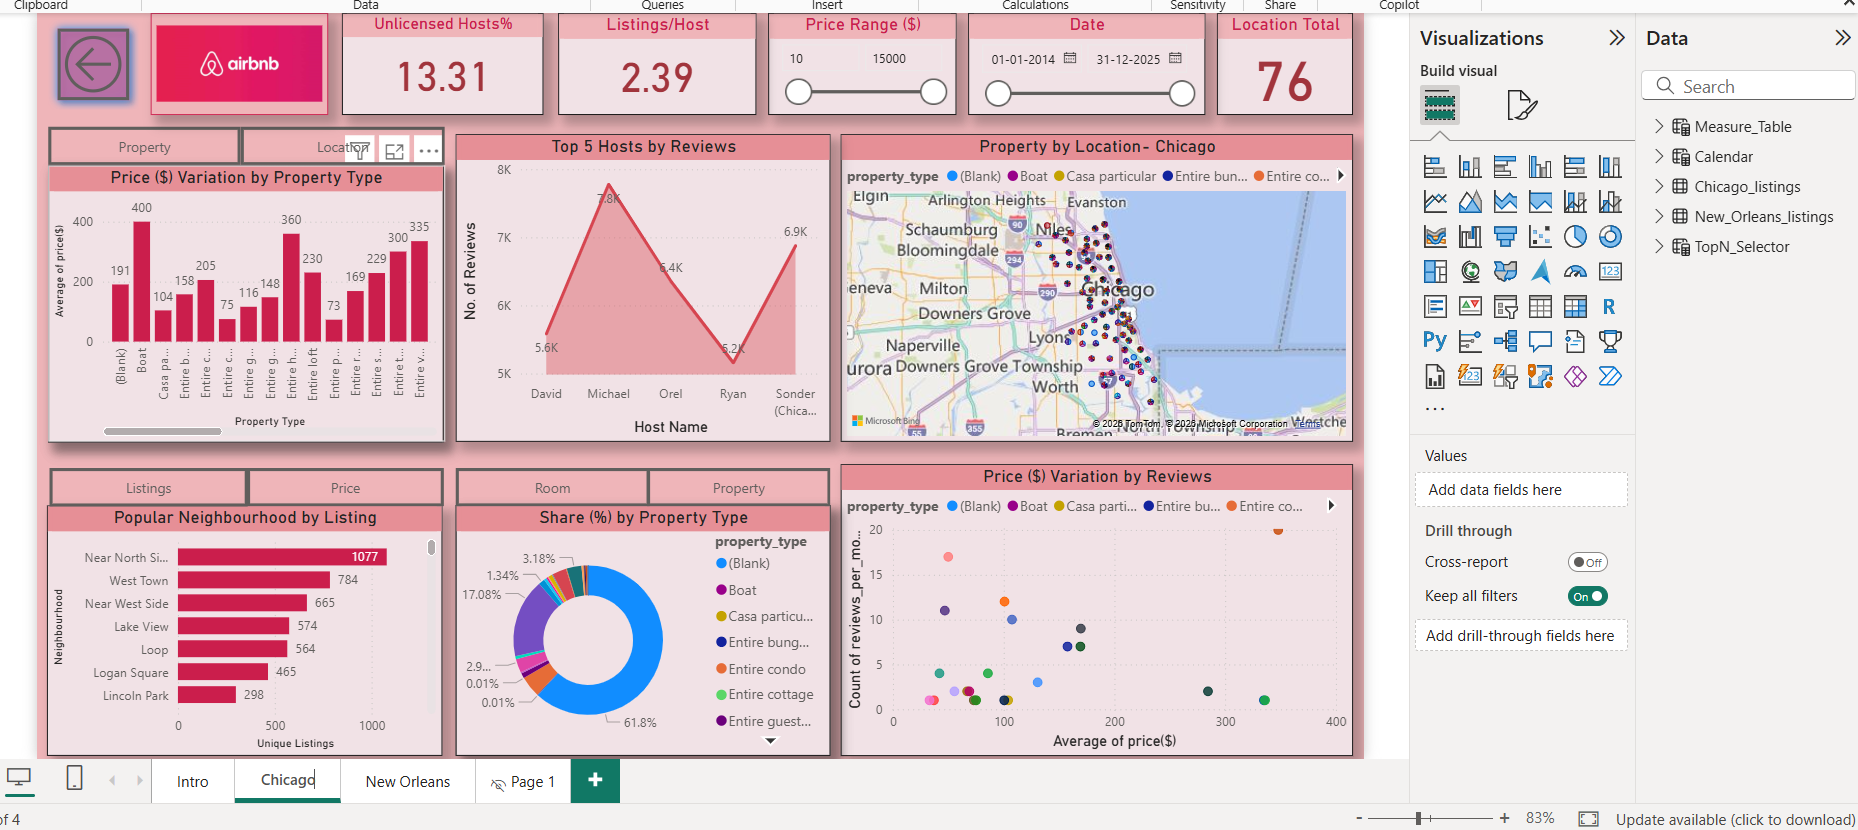

Layout of this report page (visuals, bound fields, positions):
{"tool":"powerbi","page":{"name":"Chicago","canvas":[1280,720],"ordinal":1},"visuals":[{"type":"slicer","title":"Price Range ($)","fields":{"Values":["Chicago_listings.price"]},"box":[705.7,0,181.4,98.6],"z":1000},{"type":"card","title":"Location Total","fields":{"Values":["Count(Chicago_listings.neighbourhood)"]},"box":[1138.6,0,131.4,98.6],"z":2000},{"type":"columnChart","title":"Price ($) Variation by Location","fields":{"Category":["Chicago_listings.neighbourhood"],"Y":["Avg(Chicago_listings.price)"]},"box":[11.4,147.1,380,267.1],"z":3000},{"type":"columnChart","title":"Price ($) Variation by Property Type","fields":{"Category":["Chicago_listings.property_type"],"Y":["Avg(Chicago_listings.price)"]},"box":[11.4,147.1,381.4,267.1],"z":4000},{"type":"scatterChart","title":"Price ($) Variation by Reviews","fields":{"X":["Avg(Chicago_listings.price)"],"Y":["CountNonNull(Chicago_listings.reviews_per_month)"],"Series":["Chicago_listings.property_type"]},"box":[775.7,435.7,494.3,281.4],"z":5000},{"type":"map","title":"Property by Location- Chicago","fields":{"Category":["Chicago_listings.neighbourhood"],"Series":["Chicago_listings.property_type"],"Y":["Avg(Chicago_listings.latitude)"],"X":["Avg(Chicago_listings.longitude)"]},"box":[775.7,117.1,494.3,297.1],"z":6000},{"type":"actionButton","box":[11.4,110,185.7,37.1],"z":7000},{"type":"actionButton","box":[197.1,110,197.1,37.1],"z":8000},{"type":"image","box":[110,0,171.4,98.6],"z":9000},{"type":"card","title":"Unlicensed Hosts%","fields":{"Values":["Measure_Table.Unlicensed Host %"]},"box":[294.3,0,194.3,98.6],"z":10000},{"type":"card","title":"Listings/Host","fields":{"Values":["Measure_Table.Listings/host"]},"box":[502.9,0,191.4,98.6],"z":11000},{"type":"slicer","title":"Date","fields":{"Values":["Calendar.Date"]},"box":[898.6,0,228.6,98.6],"z":12000},{"type":"actionButton","box":[11.4,5.7,87.1,87.1],"z":13000},{"type":"barChart","title":"Popular Neighbourhood by Listing","fields":{"Category":["Chicago_listings.neighbourhood"],"Y":["Chicago_listings.CH_Unique Listings"]},"box":[10,475.7,381.4,241.4],"z":15000},{"type":"actionButton","title":"Listings","box":[12,438.6,191.4,37.2],"z":16000},{"type":"actionButton","box":[202.9,438.6,190,37.1],"z":17000},{"type":"donutChart","title":"Share (%) by Room Type","fields":{"Y":["Calendar.RoomType Share (%)"],"Category":["Chicago_listings.room_type"]},"box":[404.3,475.7,361.4,241.4],"z":18000},{"type":"donutChart","title":"Share (%) by Property Type","fields":{"Category":["Chicago_listings.property_type"],"Y":["Measure_Table.PropertyType Share (%)"]},"box":[404.3,475.7,361.4,241.4],"z":19000},{"type":"actionButton","box":[404.3,438.6,187.1,37.1],"z":20000},{"type":"actionButton","box":[588.6,438.6,177.1,37.1],"z":21000},{"type":"areaChart","title":"Top 5 Hosts by Reviews","fields":{"Category":["Chicago_listings.host_name"],"Y":["TopN_Selector.Dynamic Top N Hosts by Reviews CH"]},"box":[404.3,117.1,361.4,297.1],"z":22000}]}

Visuals, with their boxes on the page's 1280x720 design canvas (x1, y1, x2, y2). These are canvas units, not pixel positions in the 1858x830 screenshot, which may show the page scaled, cropped or inside an application window:
"Price Range ($)" slicer: l=706, t=0, r=887, b=99
"Location Total" card: l=1139, t=0, r=1270, b=99
"Price ($) Variation by Location" columnChart: l=11, t=147, r=391, b=414
"Price ($) Variation by Property Type" columnChart: l=11, t=147, r=393, b=414
"Price ($) Variation by Reviews" scatterChart: l=776, t=436, r=1270, b=717
"Property by Location- Chicago" map: l=776, t=117, r=1270, b=414
actionButton: l=11, t=110, r=197, b=147
actionButton: l=197, t=110, r=394, b=147
image: l=110, t=0, r=281, b=99
"Unlicensed Hosts%" card: l=294, t=0, r=489, b=99
"Listings/Host" card: l=503, t=0, r=694, b=99
"Date" slicer: l=899, t=0, r=1127, b=99
actionButton: l=11, t=6, r=98, b=93
"Popular Neighbourhood by Listing" barChart: l=10, t=476, r=391, b=717
"Listings" actionButton: l=12, t=439, r=203, b=476
actionButton: l=203, t=439, r=393, b=476
"Share (%) by Room Type" donutChart: l=404, t=476, r=766, b=717
"Share (%) by Property Type" donutChart: l=404, t=476, r=766, b=717
actionButton: l=404, t=439, r=591, b=476
actionButton: l=589, t=439, r=766, b=476
"Top 5 Hosts by Reviews" areaChart: l=404, t=117, r=766, b=414
